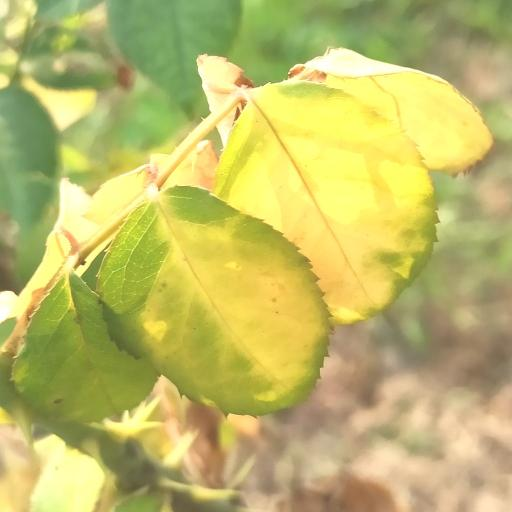thrip: (214, 81, 437, 324), (96, 186, 329, 415)
